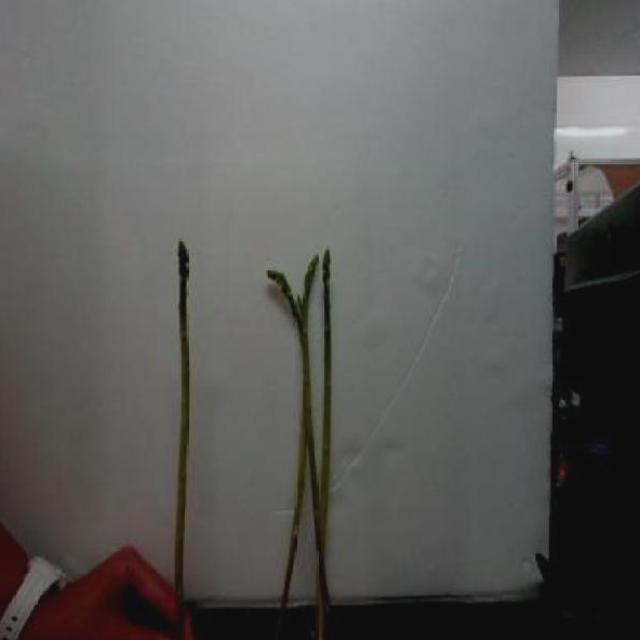aspargus: (172, 241, 192, 600)
